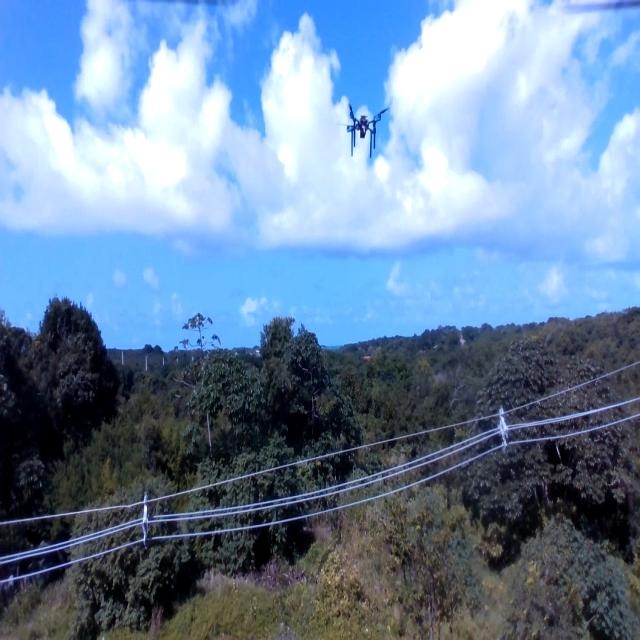-uav-: (338, 89, 397, 167)
